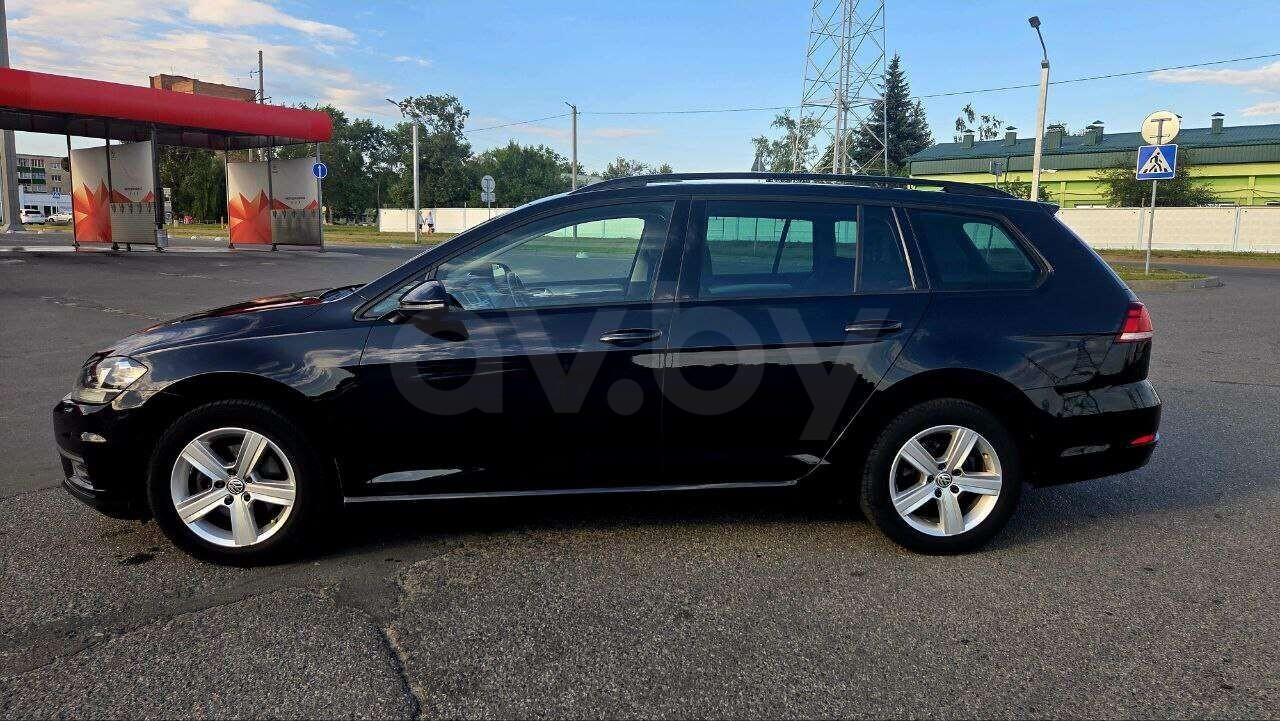Golf_2017-2021: (47, 173, 1168, 566)
